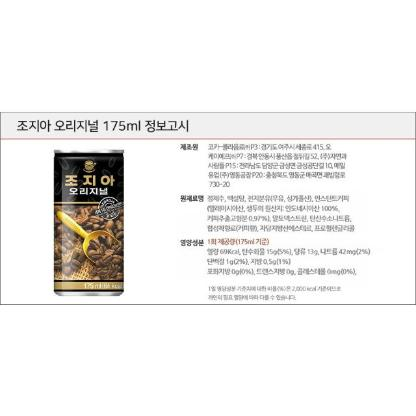Can: (50, 147, 130, 299)
